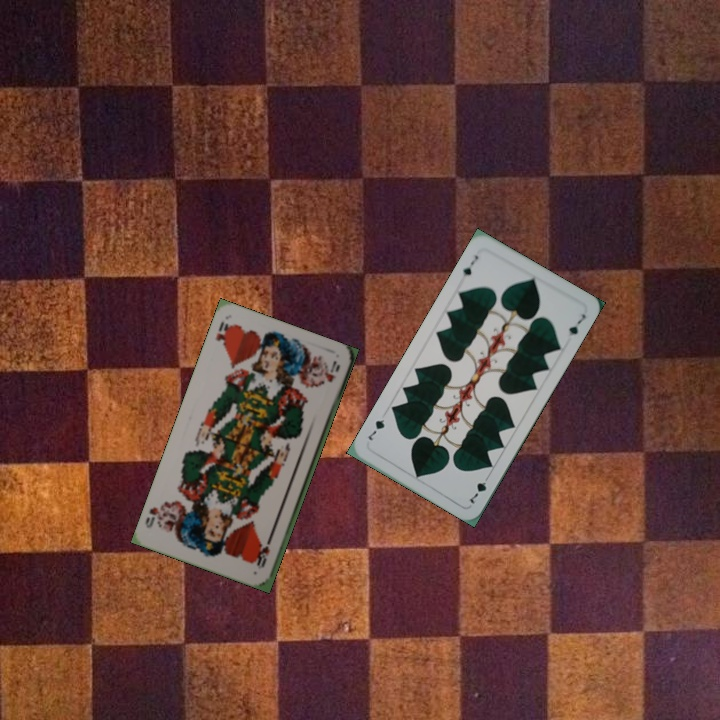G7: (465, 470, 492, 506), (459, 251, 481, 279)
HO: (211, 317, 234, 351), (254, 533, 274, 570)
